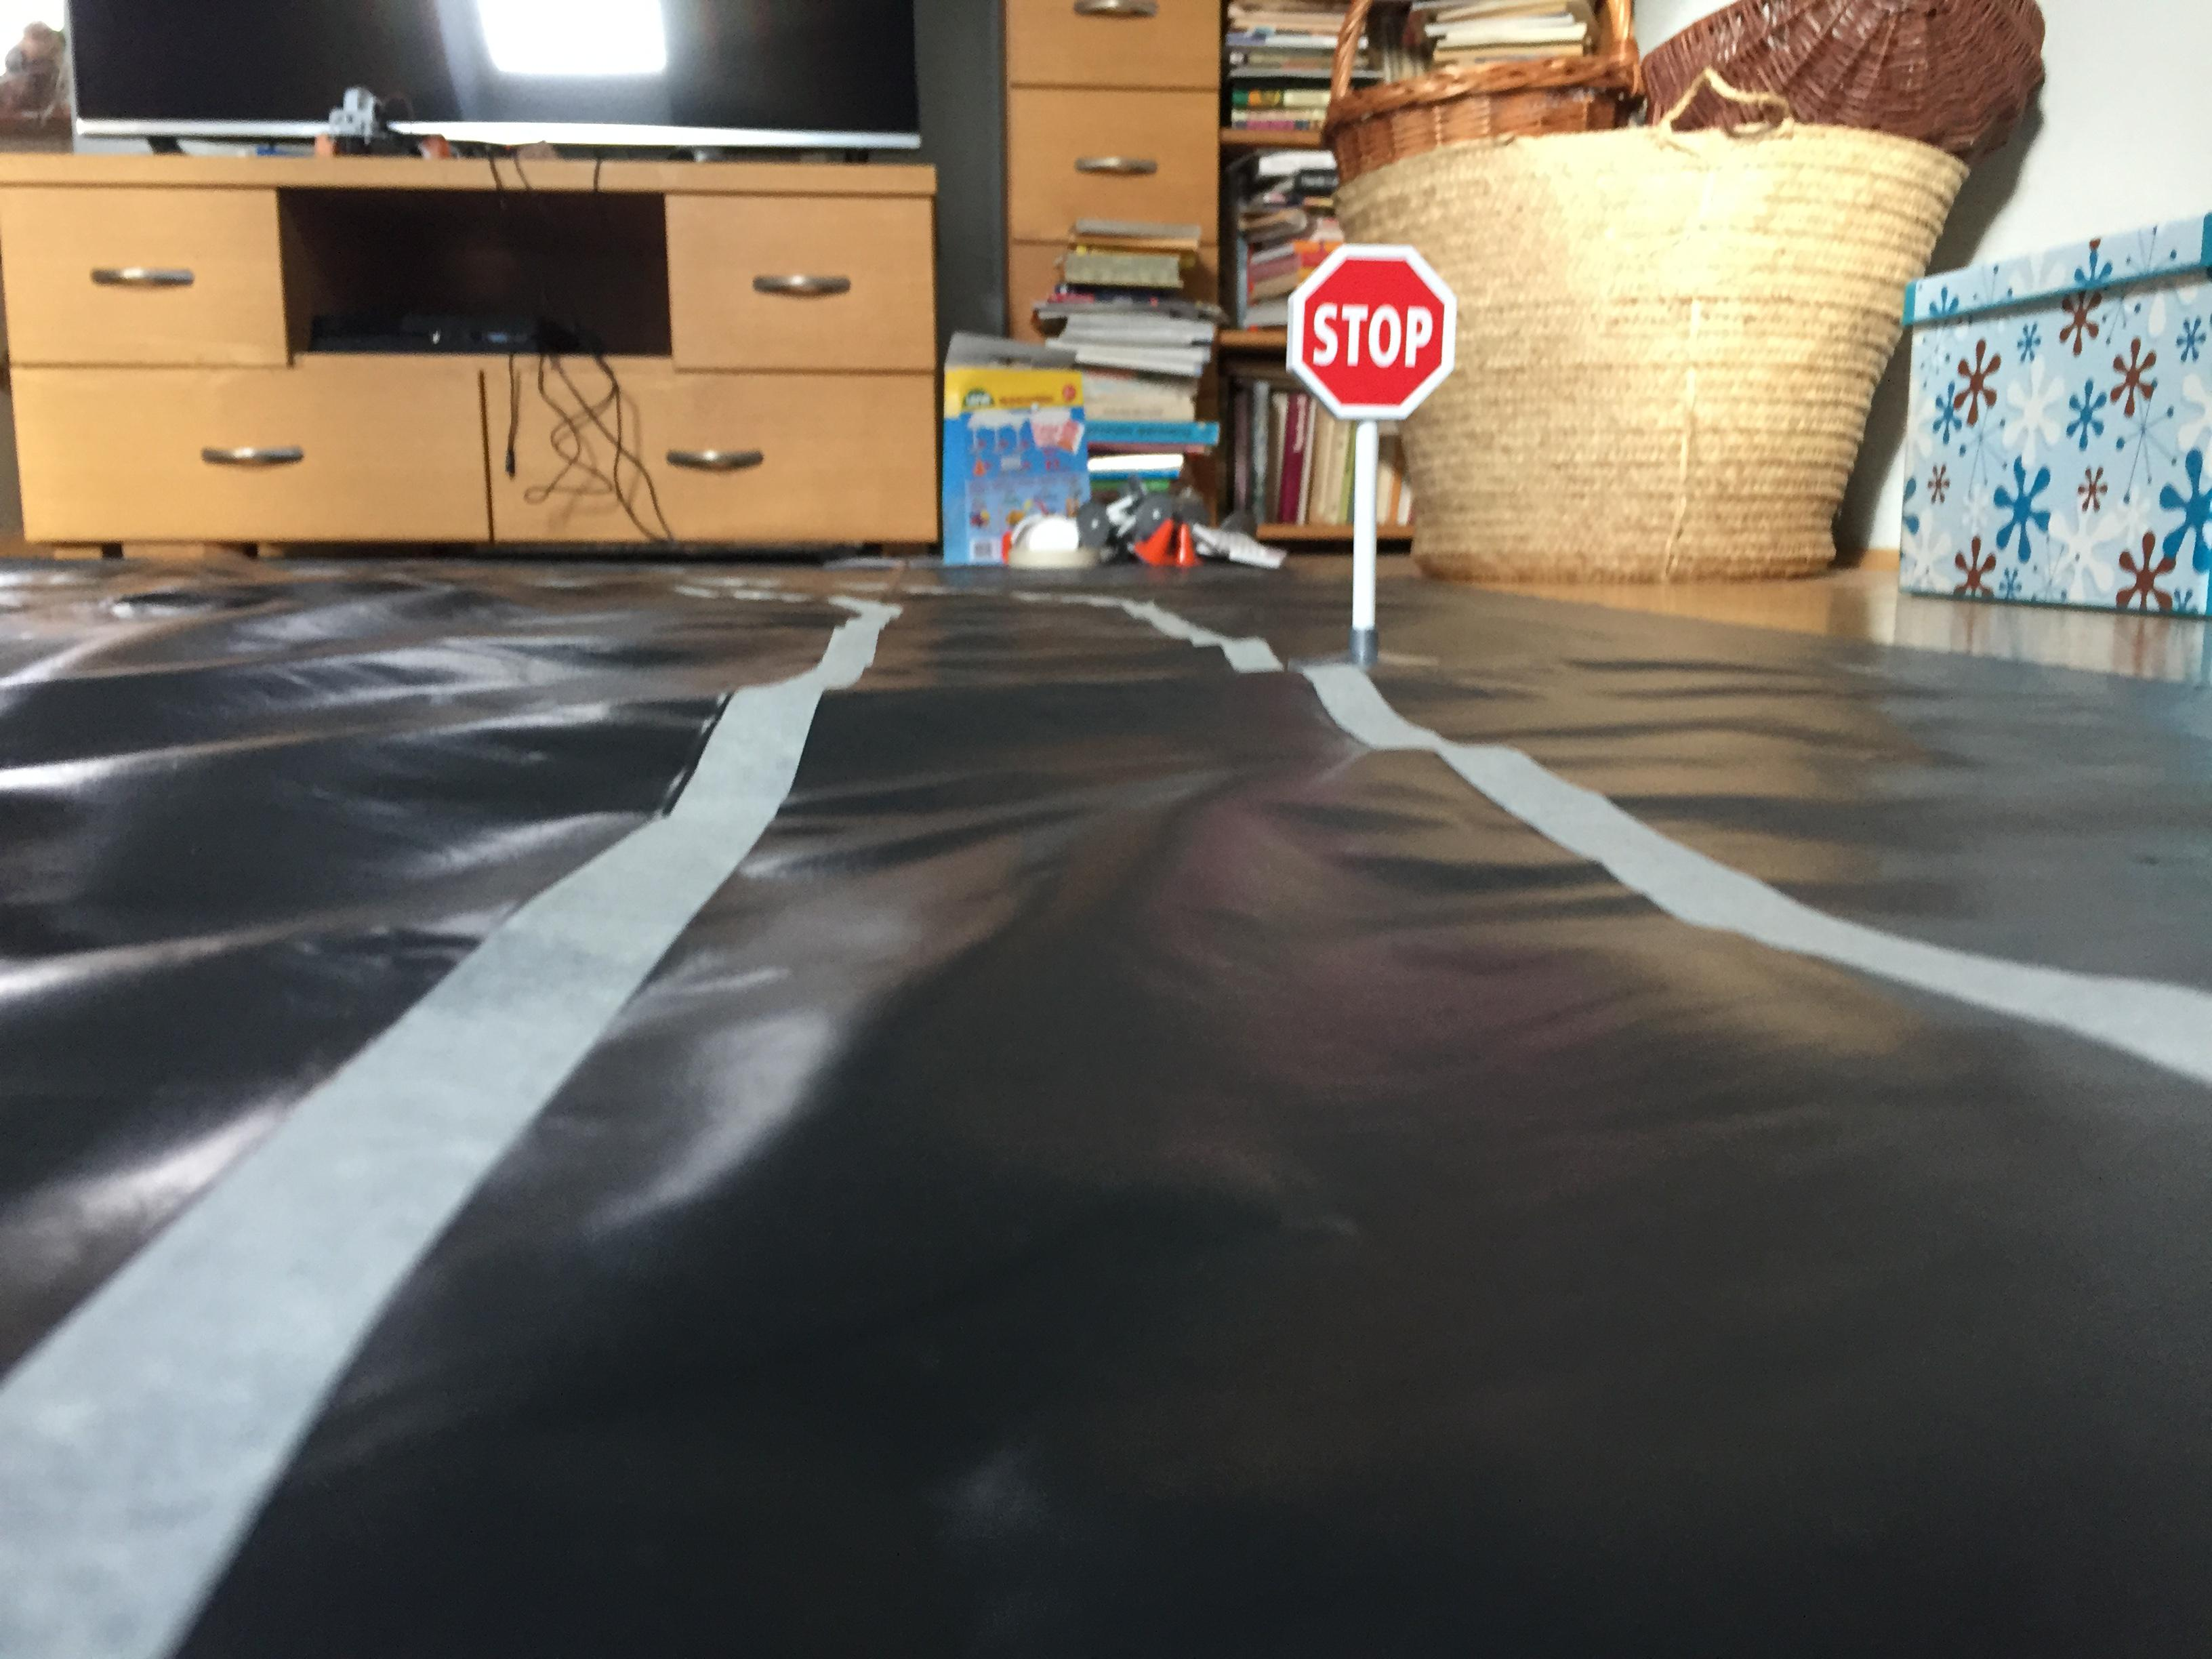stop: (1277, 242, 1461, 429)
